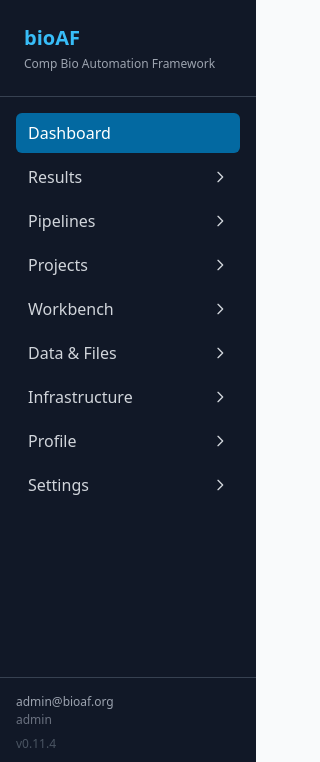
Test: Integrations nav item › appears in Settings section for admin users
The image size is (320, 762).
Click the button "Settings" at (128, 485), box [16,465,240,505]
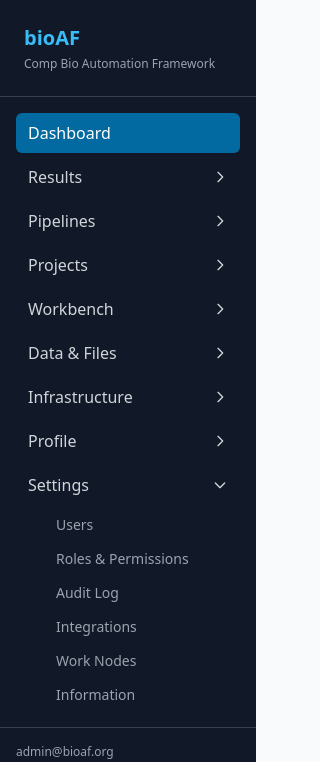
Now the link "Integrations" is shown, box [56,617,137,636]
